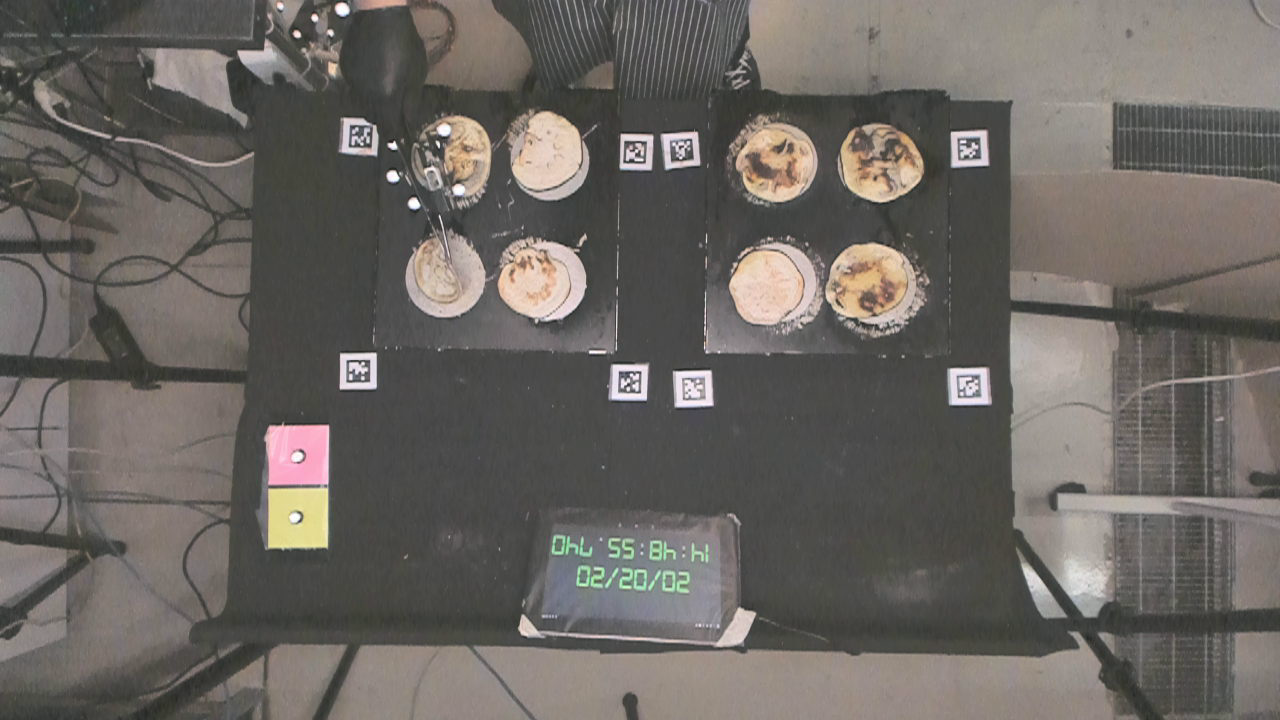eggplant: (839, 121, 928, 202), (824, 243, 907, 319), (730, 247, 806, 328), (737, 129, 815, 202), (516, 110, 583, 190), (499, 245, 571, 319), (424, 111, 489, 190), (415, 235, 467, 305)
marker: (268, 426, 328, 485)
